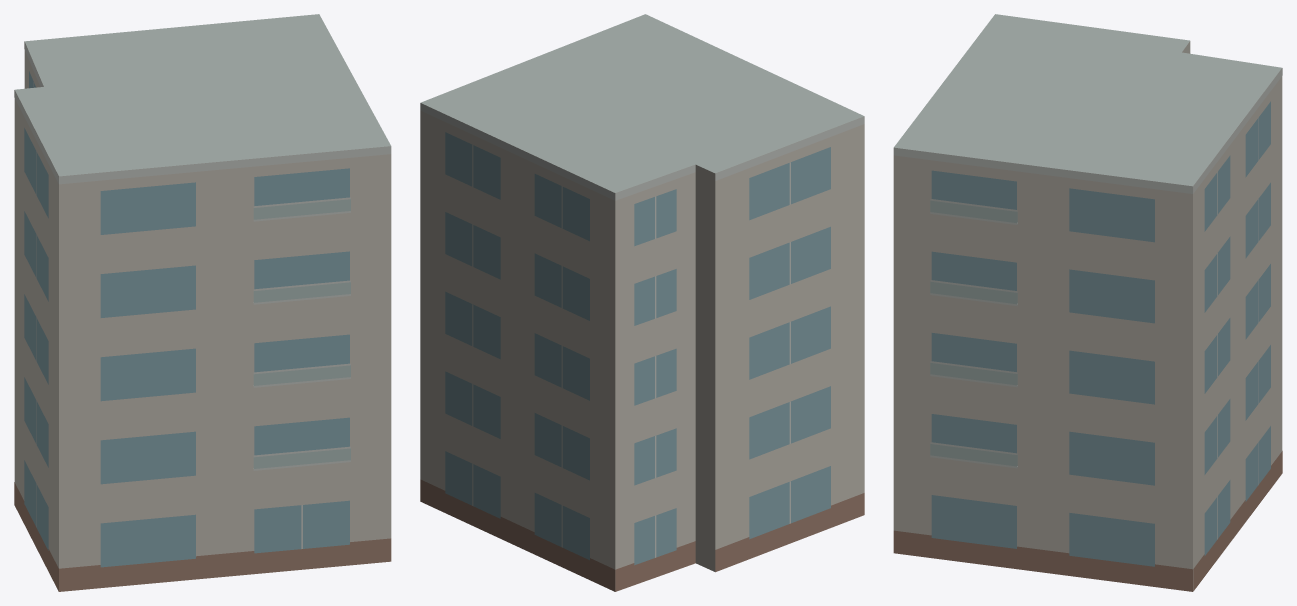
Rendered from survey-upis-32545292.glb.
3 renders of one model, left to right at view 1: azimuth 30°, elevation 25°; view 2: azimuth 150°, elevation 25°; view 3: azimuth 270°, elevation 25°, orthographic. The views are drawn at different scales.
Parts seen in each view (by area): view 1: survey-upis-32545292.tmp; view 2: survey-upis-32545292.tmp; view 3: survey-upis-32545292.tmp.
Boxes of the visible parts, box(x1,y1,x2,y2) form: survey-upis-32545292.tmp: box(14, 14, 391, 591); survey-upis-32545292.tmp: box(420, 14, 864, 591); survey-upis-32545292.tmp: box(893, 14, 1282, 591).
Bounding box in the file's own units: 11.58 × 12.7 × 11.04.
